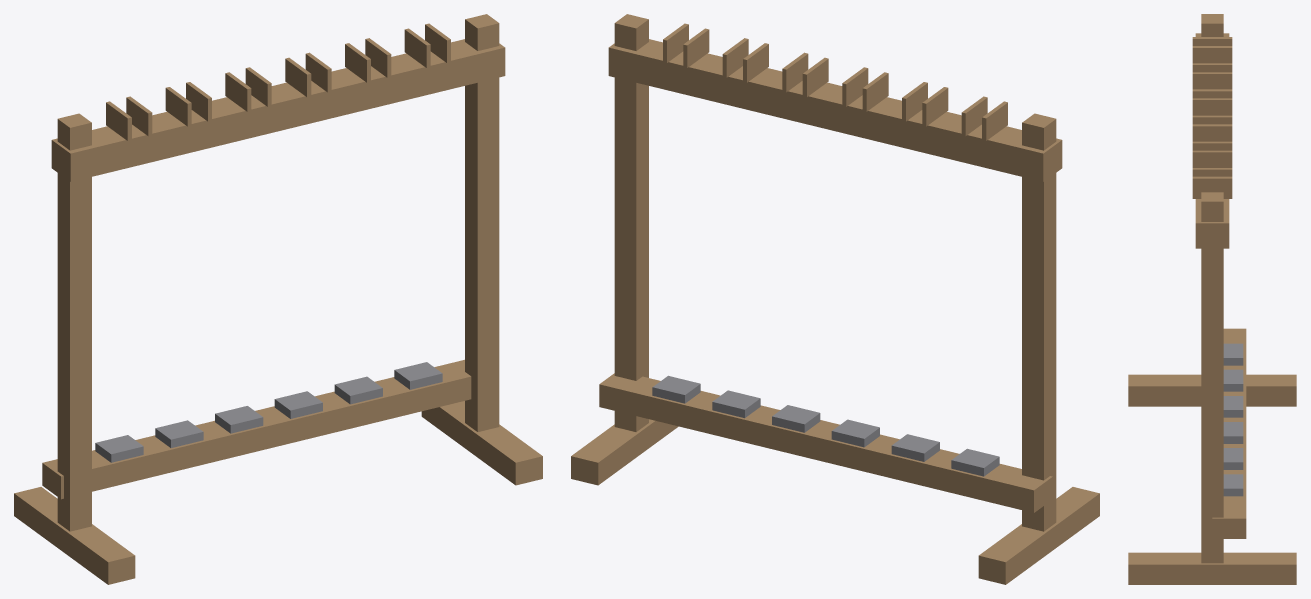
The model's file is weapon_rack.glb.
3 renders of one model, left to right at view 1: azimuth 30°, elevation 25°; view 2: azimuth 150°, elevation 25°; view 3: azimuth 270°, elevation 25°, orthographic. The views are drawn at different scales.
Parts seen in each view (by area): view 1: weapon_rack; view 2: weapon_rack; view 3: weapon_rack.
Boxes of the visible parts, left/top/right/bottom form: weapon_rack: left=14, top=14, right=542, bottom=584; weapon_rack: left=571, top=14, right=1099, bottom=584; weapon_rack: left=1128, top=14, right=1296, bottom=584.
Size of the model in its own units: 1.6 by 1.5 by 0.6.
